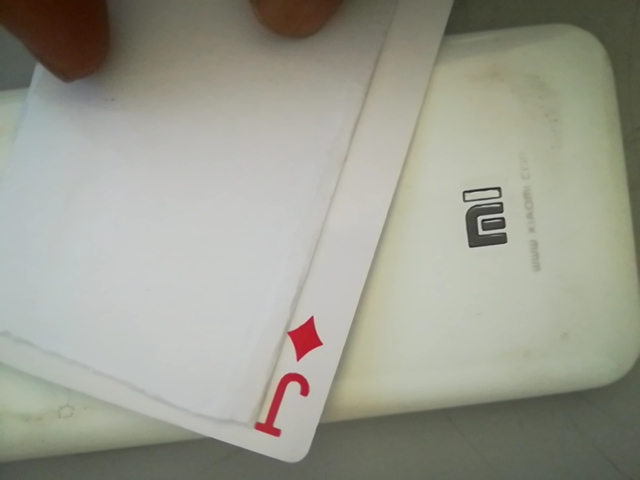fk j: (252, 307, 334, 448)
